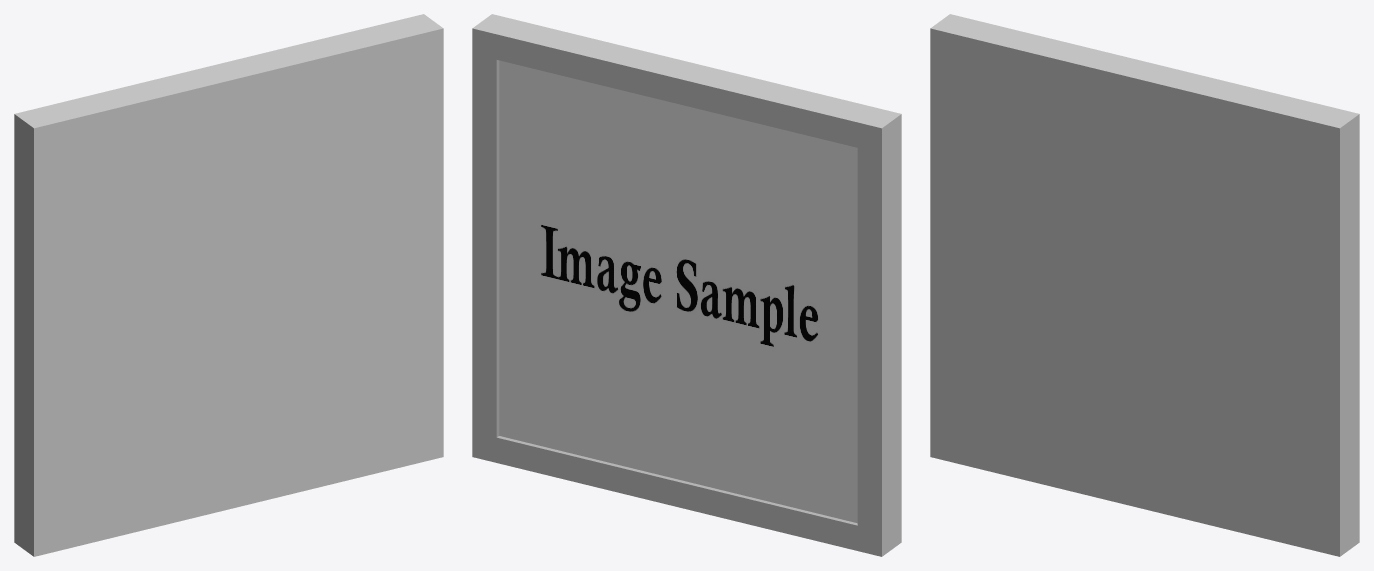
Rendered from frame_var1.fbx.
3 renders of one model, left to right at view 1: azimuth 30°, elevation 25°; view 2: azimuth 150°, elevation 25°; view 3: azimuth 330°, elevation 25°, orthographic.
Visible parts, largest first — view 1: Cube.055; view 2: Plane.003, Cube.055; view 3: Cube.055.
Part boxes in pixels (x1=…): Cube.055: x1=14, y1=14, x2=443, y2=556; Plane.003: x1=499, y1=60, x2=857, y2=523; Cube.055: x1=472, y1=14, x2=901, y2=556; Cube.055: x1=930, y1=14, x2=1359, y2=556.
Size of the model in its own units: 71.58 by 71.58 by 5.97.
